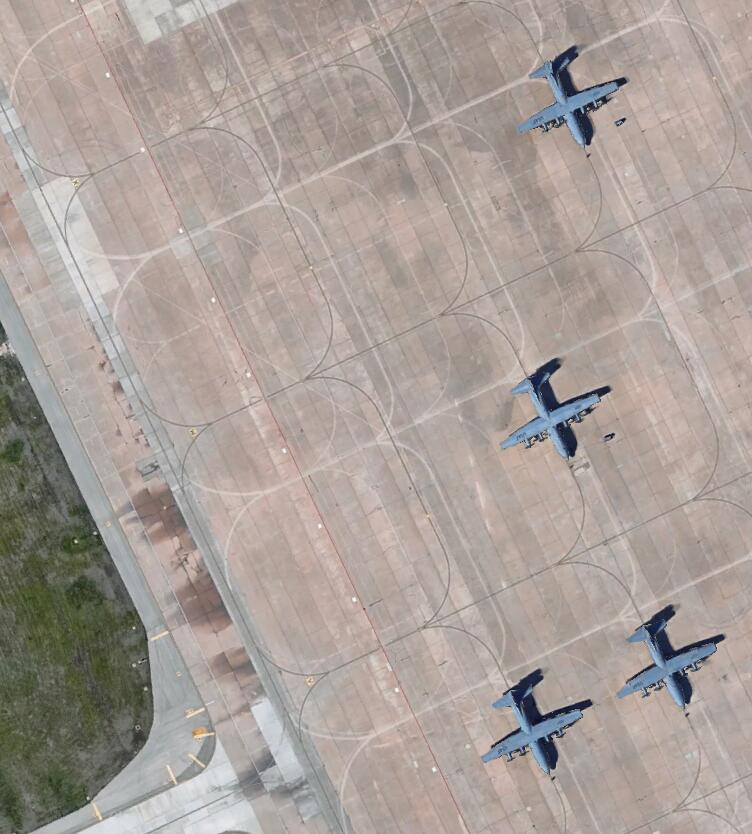A2: (510, 44, 635, 149), (613, 599, 729, 711), (478, 667, 598, 774), (497, 354, 618, 459)
